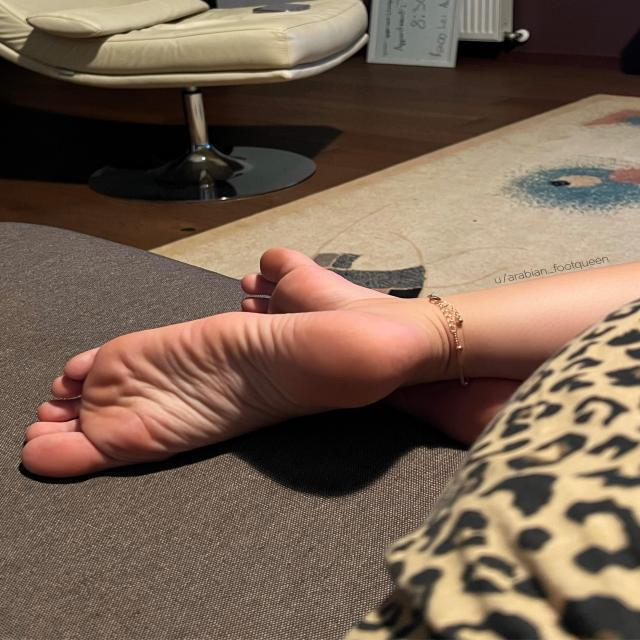Barefoots: (19, 298, 426, 500), (240, 244, 454, 476)
